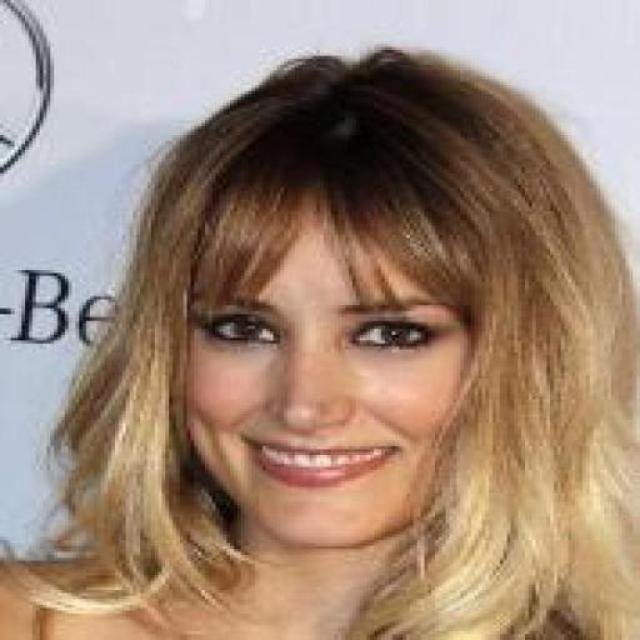bareface: (146, 176, 514, 562)
